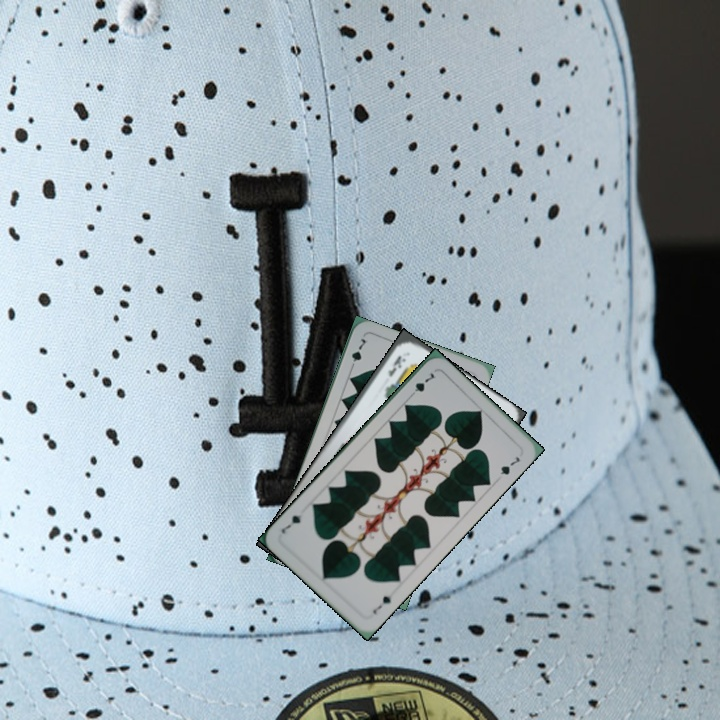EK: (384, 351, 409, 380)
G7: (405, 368, 437, 401), (346, 334, 370, 373), (369, 591, 394, 617)
